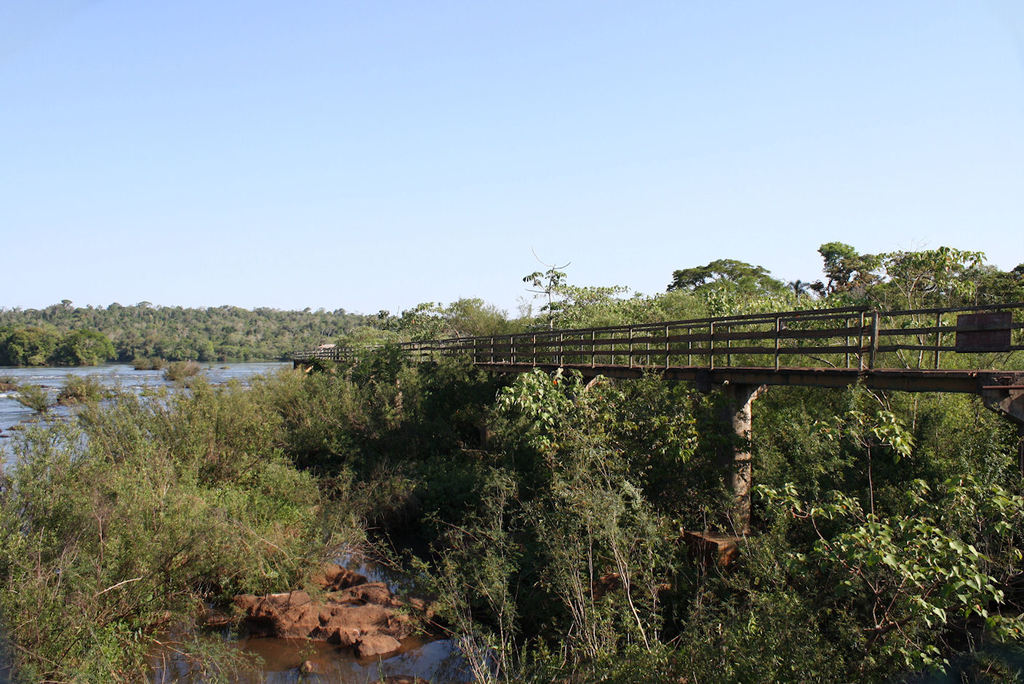Tree: (847, 245, 1000, 330), (669, 256, 765, 292), (813, 239, 856, 290)
